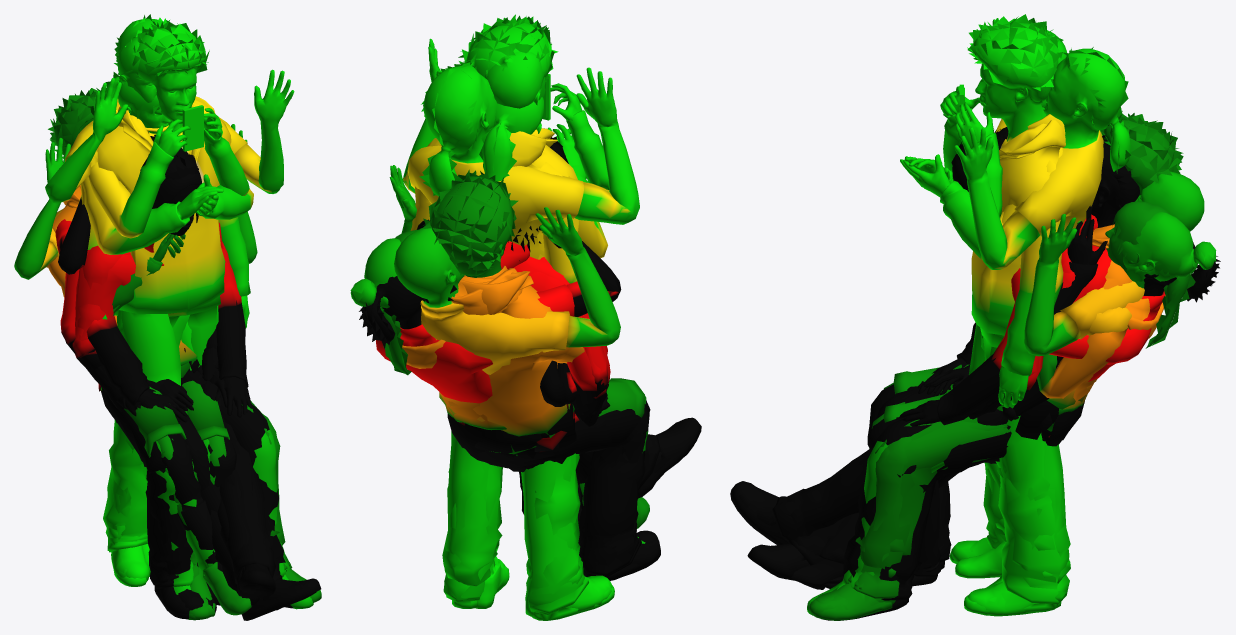
Rendered from floor_crowd_textured.glb.
3 renders of one model, left to right at view 1: azimuth 30°, elevation 25°; view 2: azimuth 150°, elevation 25°; view 3: azimuth 270°, elevation 25°, orthographic. The views are drawn at different scales.
Visible parts, largest first — view 1: Fan22, Fan20, Fan23, Fan21, Fan04, Fan02, Fan03, Fan06, Fan16, Fan07, Fan11, Fan05 (+11 smaller); view 2: Fan20, Fan06, Fan01, Fan21, Fan22, Fan14, Fan23, Fan09, Fan16, Fan03, Fan04, Fan00 (+10 smaller); view 3: Fan20, Fan22, Fan06, Fan16, Fan21, Fan01, Fan14, Fan12, Fan18, Fan23, Fan07, Fan04 (+12 smaller).
Boxes of the visible parts, bbox=[...] form: Fan22: bbox=[78, 20, 250, 581]; Fan20: bbox=[45, 14, 294, 577]; Fan23: bbox=[88, 72, 249, 576]; Fan21: bbox=[82, 36, 253, 586]; Fan04: bbox=[55, 197, 293, 619]; Fan02: bbox=[75, 148, 321, 620]; Fan03: bbox=[61, 133, 252, 614]; Fan06: bbox=[14, 124, 313, 609]; Fan16: bbox=[124, 380, 251, 616]; Fan07: bbox=[72, 242, 304, 604]; Fan11: bbox=[75, 170, 316, 620]; Fan05: bbox=[87, 136, 236, 610]; Fan20: bbox=[403, 38, 639, 614]; Fan06: bbox=[389, 165, 648, 543]; Fan01: bbox=[421, 169, 584, 505]; Fan21: bbox=[434, 41, 614, 620]; Fan22: bbox=[410, 14, 612, 605]; Fan14: bbox=[359, 219, 650, 508]; Fan23: bbox=[475, 74, 609, 616]; Fan09: bbox=[579, 347, 660, 580]; Fan16: bbox=[382, 229, 649, 528]; Fan03: bbox=[479, 257, 660, 564]; Fan04: bbox=[424, 224, 660, 580]; Fan00: bbox=[529, 272, 649, 463]; Fan20: bbox=[954, 18, 1130, 615]; Fan22: bbox=[951, 14, 1070, 616]; Fan06: bbox=[807, 171, 1204, 615]; Fan16: bbox=[871, 201, 1195, 428]; Fan21: bbox=[900, 30, 1069, 614]; Fan01: bbox=[816, 111, 1183, 604]; Fan14: bbox=[867, 203, 1220, 448]; Fan12: bbox=[809, 224, 1114, 620]; Fan18: bbox=[869, 212, 1216, 448]; Fan23: bbox=[940, 84, 1102, 587]; Fan07: bbox=[739, 296, 1043, 571]; Fan04: bbox=[843, 135, 1139, 577].
Bounding box in the file's own units: 0.8511 × 1.86 × 1.45.
